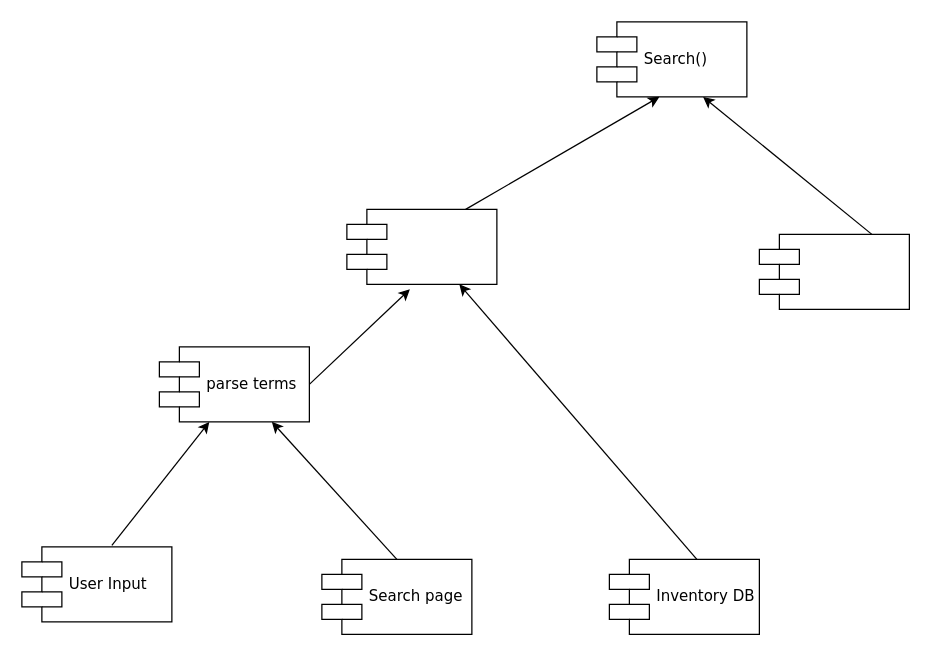
Image size: 931x656. Some labels were removed from this diagram. Here are the shapes that lost their labels. From the top down, the centre of each, then its label:
pixel 421 246: query DB
pixel 833 271: Results page
